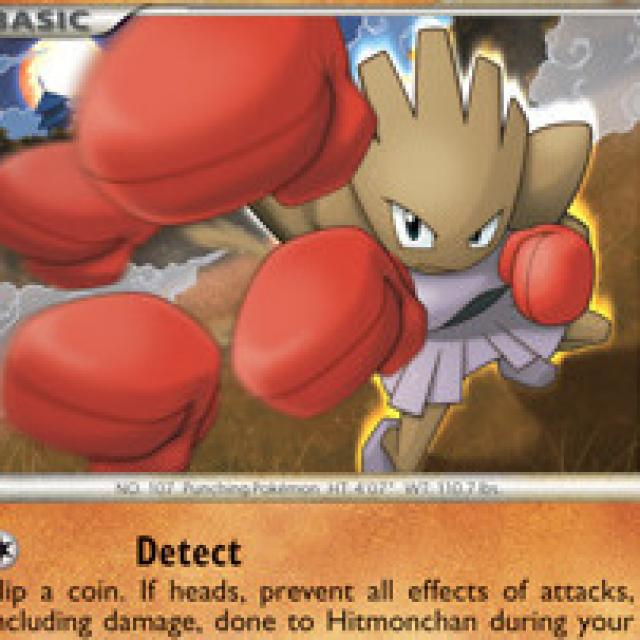Hitmonchan: (260, 51, 596, 483)
